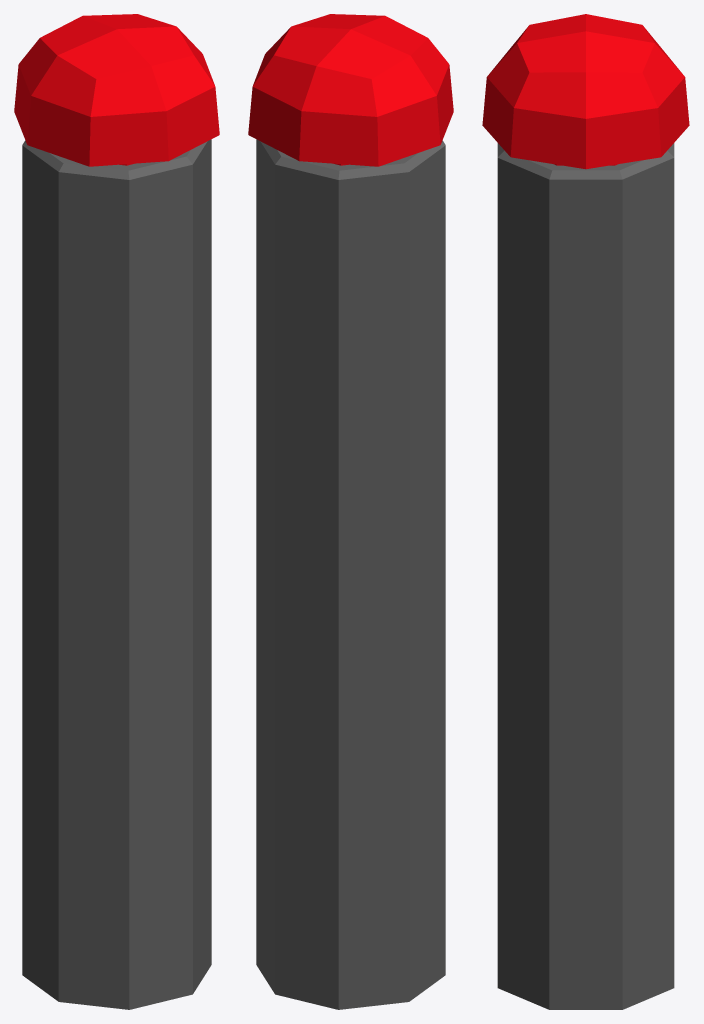
Rendered from HitTheLucasStartButton.fbx.
3 views of the same model, side by side, from view 1: azimuth 30°, elevation 25°; view 2: azimuth 150°, elevation 25°; view 3: azimuth 270°, elevation 25° (orthographic).
Parts seen in each view (by area): view 1: Holder, Button; view 2: Holder, Button; view 3: Holder, Button.
Boxes of the visible parts, left/top/right/bottom form: Holder: left=22, top=139, right=211, bottom=1009; Button: left=14, top=14, right=219, bottom=166; Holder: left=256, top=139, right=445, bottom=1009; Button: left=248, top=14, right=453, bottom=166; Holder: left=497, top=143, right=674, bottom=1009; Button: left=482, top=14, right=689, bottom=169.
Size of the model in its own units: 16.79 by 84.16 by 16.79.
